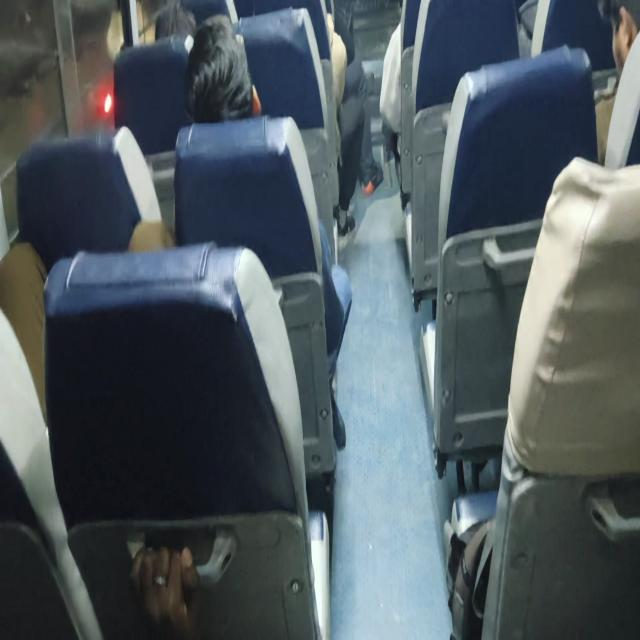person: (186, 41, 263, 136), (574, 1, 640, 74), (151, 4, 195, 54)
